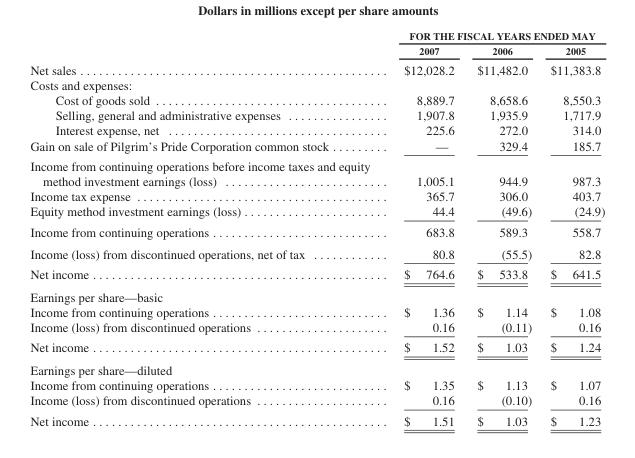table: (29, 29, 604, 427)
table column: (29, 29, 386, 427), (386, 29, 465, 427), (465, 29, 540, 427), (540, 29, 604, 427)
table column header: (29, 29, 604, 59)
table projected row header: (29, 285, 604, 304), (29, 358, 604, 377), (29, 77, 604, 92)
table row: (29, 155, 604, 188), (29, 263, 604, 285), (29, 336, 604, 358), (29, 221, 604, 242), (29, 242, 604, 263), (29, 285, 604, 304), (29, 358, 604, 377), (29, 59, 604, 77), (29, 137, 604, 155), (29, 203, 604, 221), (29, 392, 604, 410), (29, 42, 604, 59), (29, 319, 604, 336), (29, 410, 604, 427), (29, 77, 604, 92), (29, 92, 604, 107), (29, 107, 604, 122), (29, 122, 604, 137), (29, 188, 604, 203), (29, 304, 604, 319), (29, 377, 604, 392), (29, 29, 604, 42)
table spanning cell: (386, 29, 604, 42)
